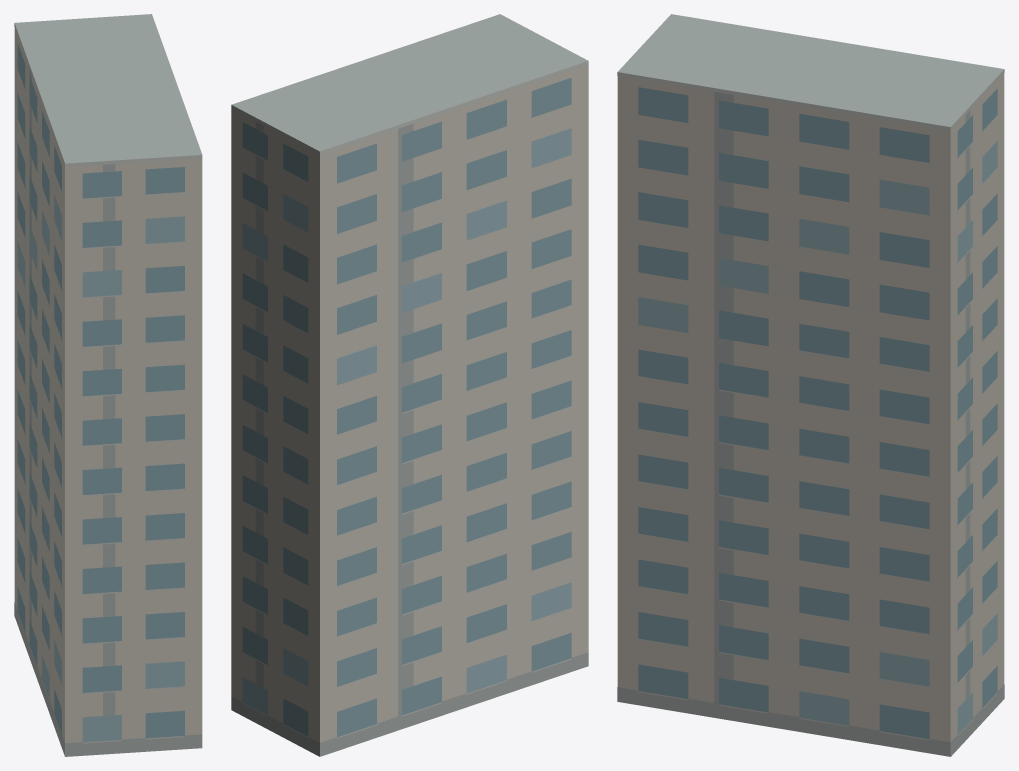
File: residential-c9aed932-45d1-46cd-990f-900179b297bd.glb
3 renders of one model, left to right at view 1: azimuth 30°, elevation 25°; view 2: azimuth 150°, elevation 25°; view 3: azimuth 270°, elevation 25°, orthographic. The views are drawn at different scales.
Parts seen in each view (by area): view 1: residential-c9aed932-45d1-46cd-990f-900179b297bd.tmp; view 2: residential-c9aed932-45d1-46cd-990f-900179b297bd.tmp; view 3: residential-c9aed932-45d1-46cd-990f-900179b297bd.tmp.
Boxes of the visible parts, x1,y1,x2,y2 form: residential-c9aed932-45d1-46cd-990f-900179b297bd.tmp: (14,14,202,756); residential-c9aed932-45d1-46cd-990f-900179b297bd.tmp: (231,14,588,756); residential-c9aed932-45d1-46cd-990f-900179b297bd.tmp: (617,14,1004,756).
Size of the model in its own units: 15.42 by 40 by 22.29.
